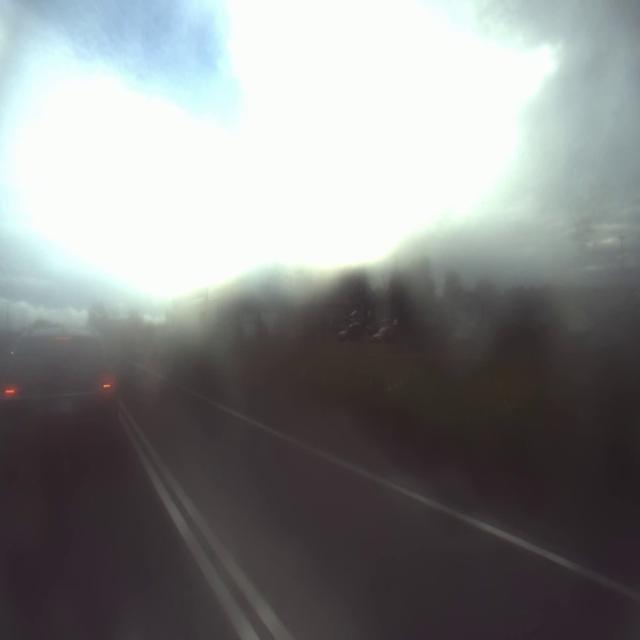car: (6, 320, 124, 478)
